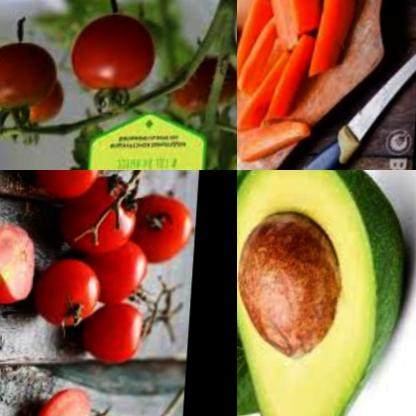avocado: (237, 170, 416, 416), (237, 170, 321, 360)
carrot: (237, 0, 375, 114), (237, 118, 327, 170)
tomato: (69, 5, 163, 97), (55, 175, 146, 258), (35, 258, 106, 333), (130, 189, 200, 262), (93, 232, 159, 307), (0, 35, 61, 116), (0, 223, 53, 311), (171, 60, 235, 123), (93, 308, 154, 371), (20, 170, 111, 204), (33, 381, 105, 416), (24, 97, 71, 136)
